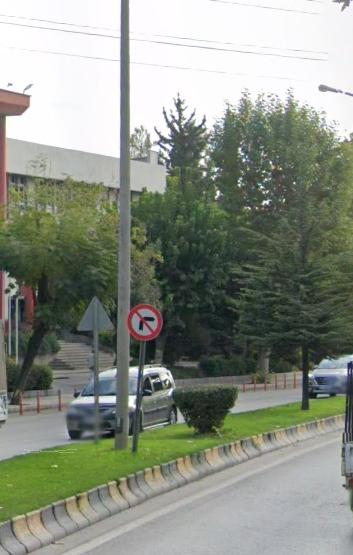rightturnsareforbidden: (127, 304, 165, 339)
